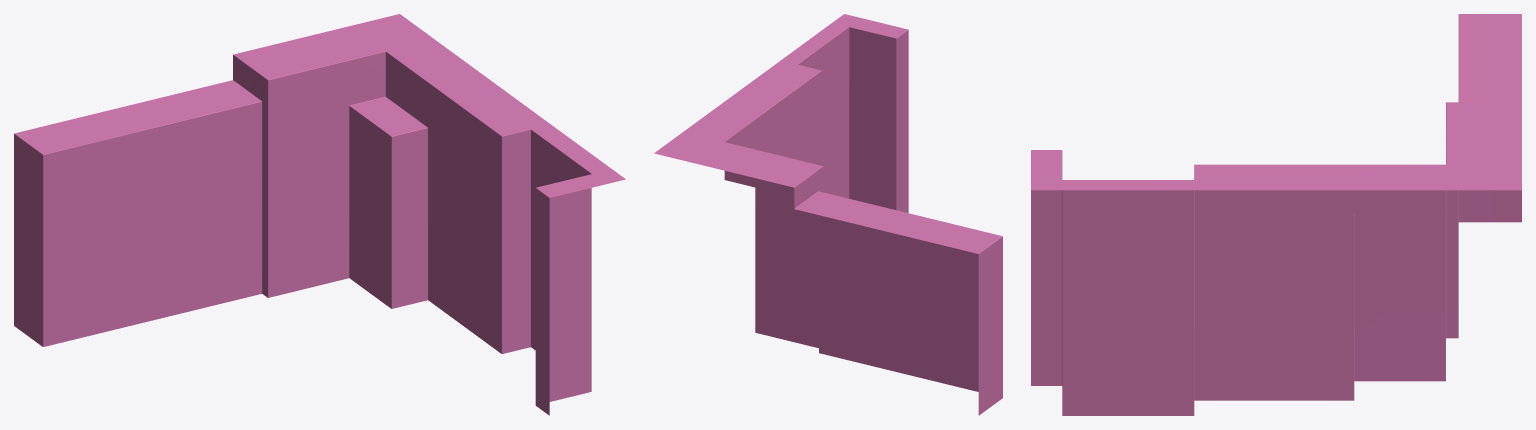
File: S_InnerWall_02.fbx
The picture shows the model from 3 angles, left to right: view 1: azimuth 30°, elevation 25°; view 2: azimuth 150°, elevation 25°; view 3: azimuth 270°, elevation 25°; orthographic projection. The views are drawn at different scales.
Visible parts, largest first — view 1: S_InnerWall_02; view 2: S_InnerWall_02; view 3: S_InnerWall_02.
Part boxes in pixels (<box>): S_InnerWall_02: <box>14,14,625,415</box>; S_InnerWall_02: <box>654,14,1002,415</box>; S_InnerWall_02: <box>1031,14,1521,415</box>.
Bounding box in the file's own units: 926 × 500 × 940.
